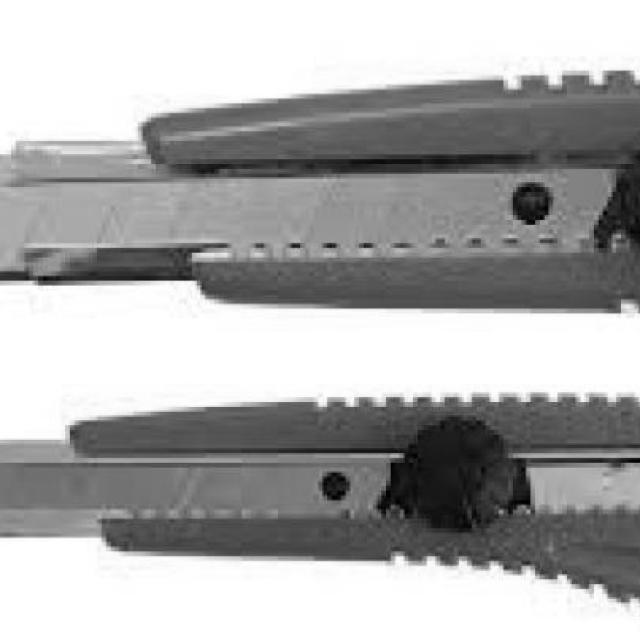estilete: (0, 71, 640, 312), (0, 395, 640, 603)
